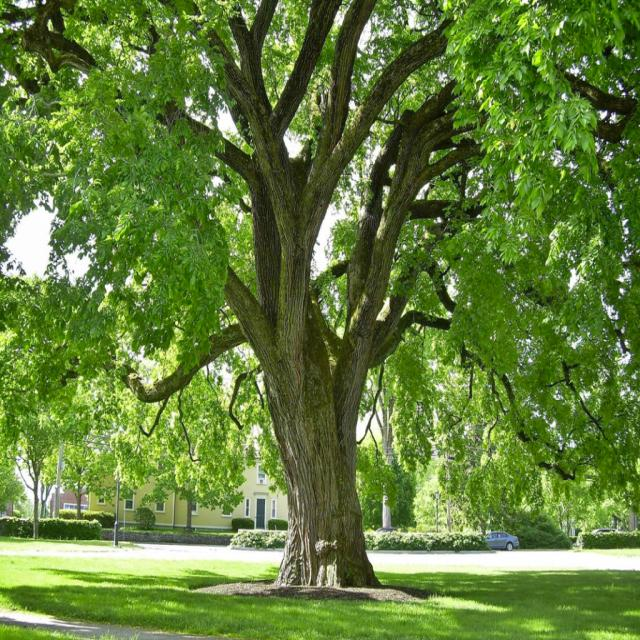Tree: (7, 4, 640, 589)
